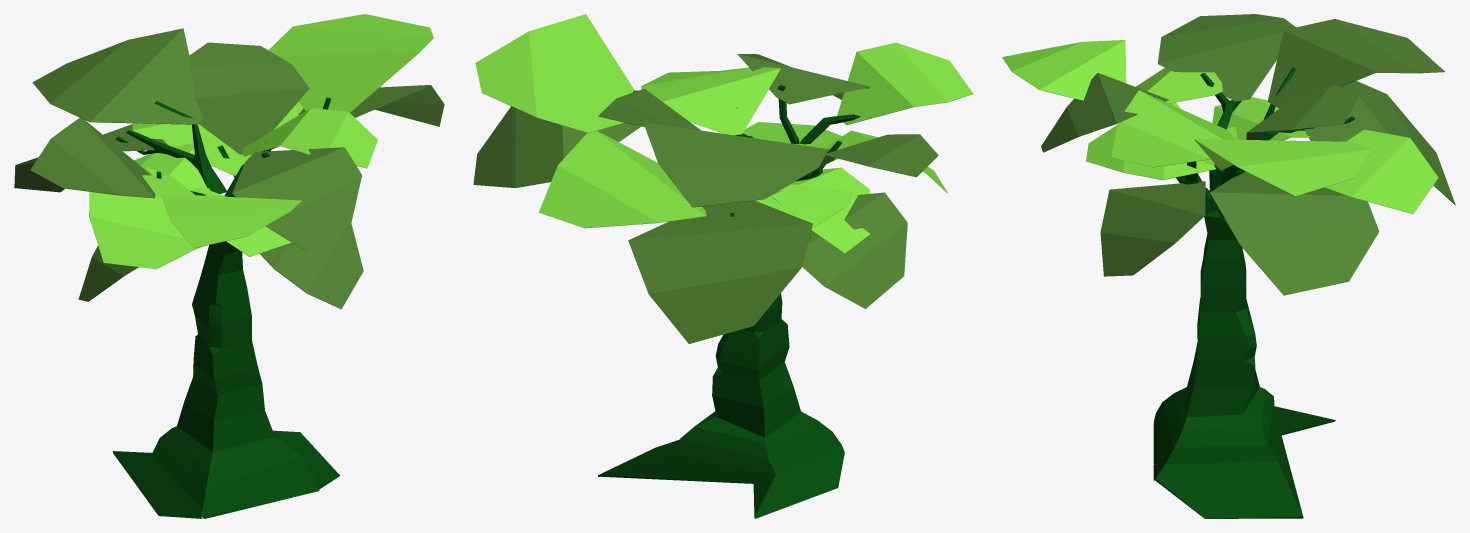
File: tree1.fbx
3 renders of one model, left to right at view 1: azimuth 30°, elevation 25°; view 2: azimuth 150°, elevation 25°; view 3: azimuth 270°, elevation 25°, orthographic.
Parts seen in each view (by area): view 1: tree1; view 2: tree1; view 3: tree1.
Boxes of the visible parts, x1,y1,x2,y2 form: tree1: (14,14,444,518); tree1: (473,14,973,518); tree1: (1002,14,1455,518).
Size of the model in its own units: 919 by 850 by 839.
